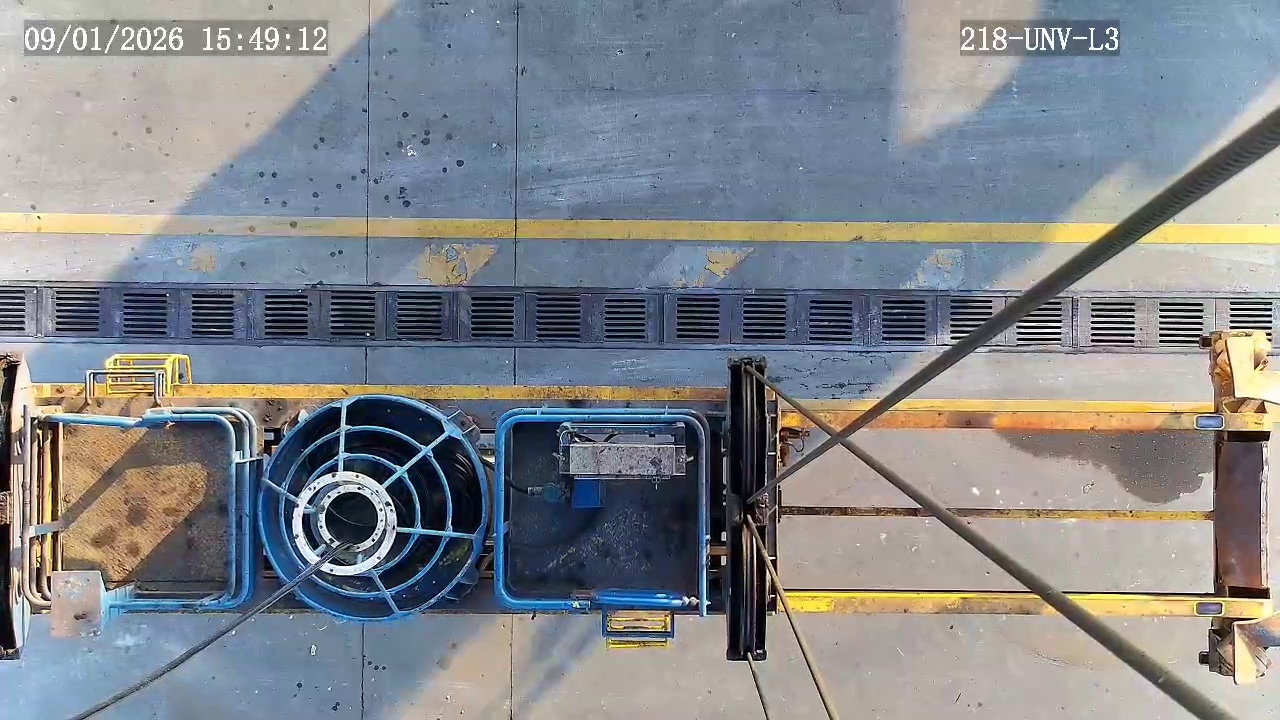right: (256, 394, 487, 623)
